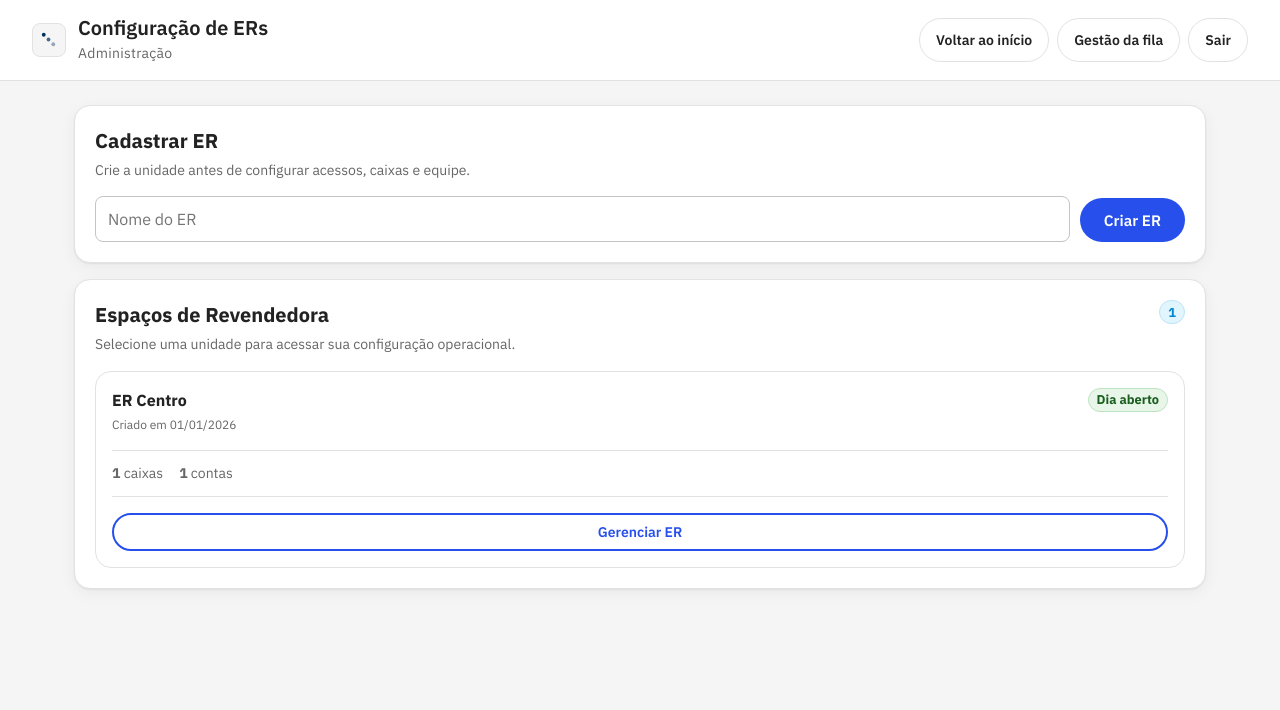
AdminPage — ER management › surfaces an error when generating the panel token fails
Click the button "Gerenciar ER".
click(640, 532)  # box [112,513,1168,551]
(page scrolled)
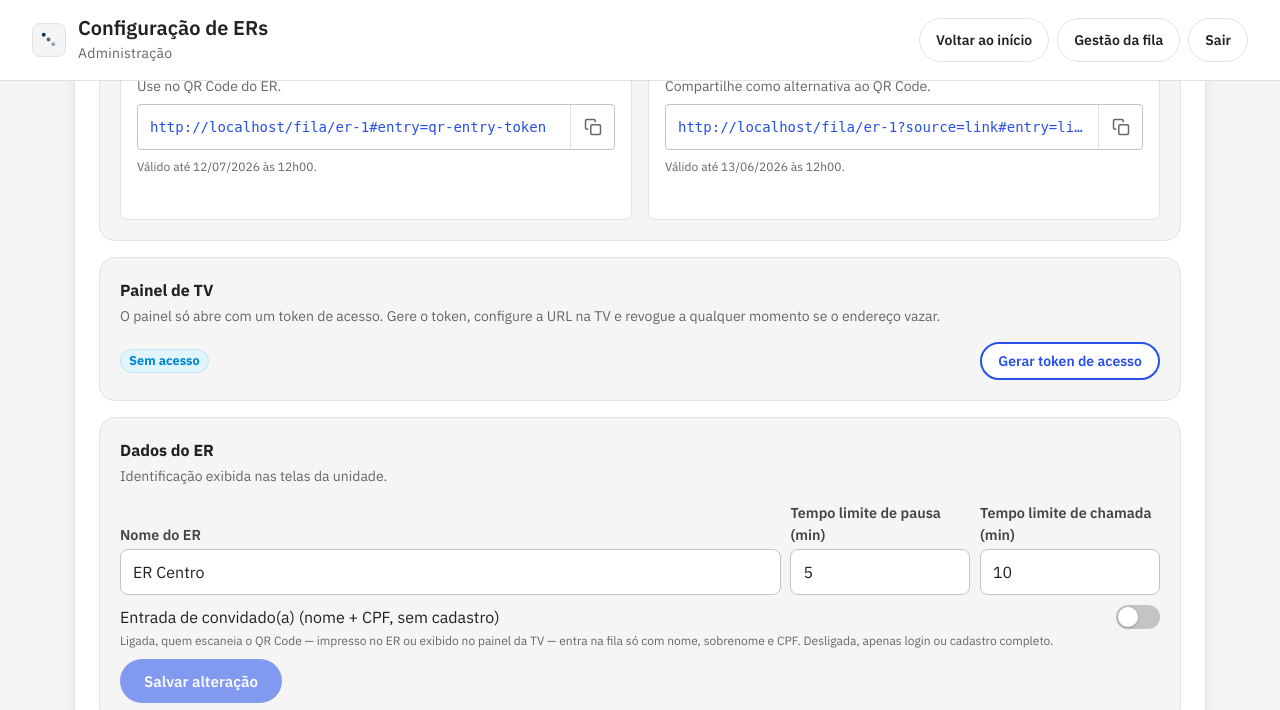
Click the button "Gerar token de acesso".
click(1070, 361)  # box [980,342,1160,380]
(page scrolled)
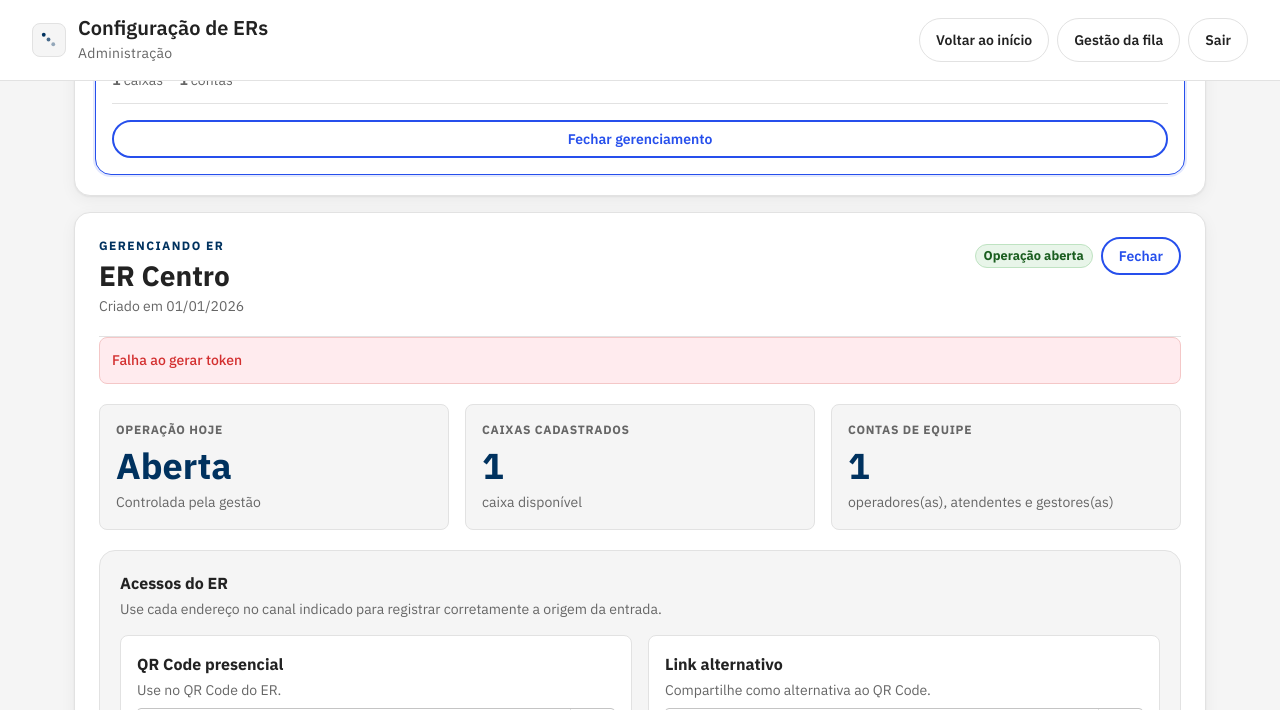
Result: the message reads "Falha ao gerar token" at [112,352,242,370]
